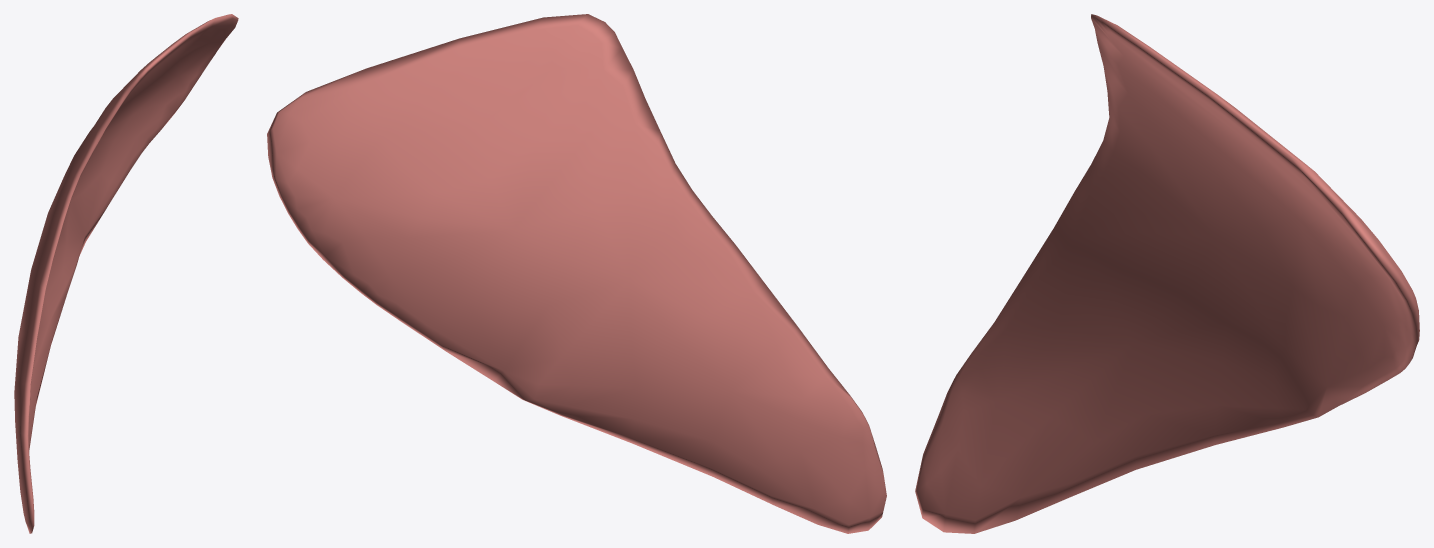
3 renders of one model, left to right at view 1: azimuth 30°, elevation 25°; view 2: azimuth 150°, elevation 25°; view 3: azimuth 270°, elevation 25°, orthographic. The views are drawn at different scales.
Parts seen in each view (by area): view 1: ZA_c5439ffab025e43b; view 2: ZA_c5439ffab025e43b; view 3: ZA_c5439ffab025e43b.
Part boxes in pixels (<box>): ZA_c5439ffab025e43b: <box>14,14,238,533</box>; ZA_c5439ffab025e43b: <box>267,14,886,533</box>; ZA_c5439ffab025e43b: <box>915,14,1419,533</box>.
Size of the model in its own units: 0.0238 by 0.0261 by 0.0182.
